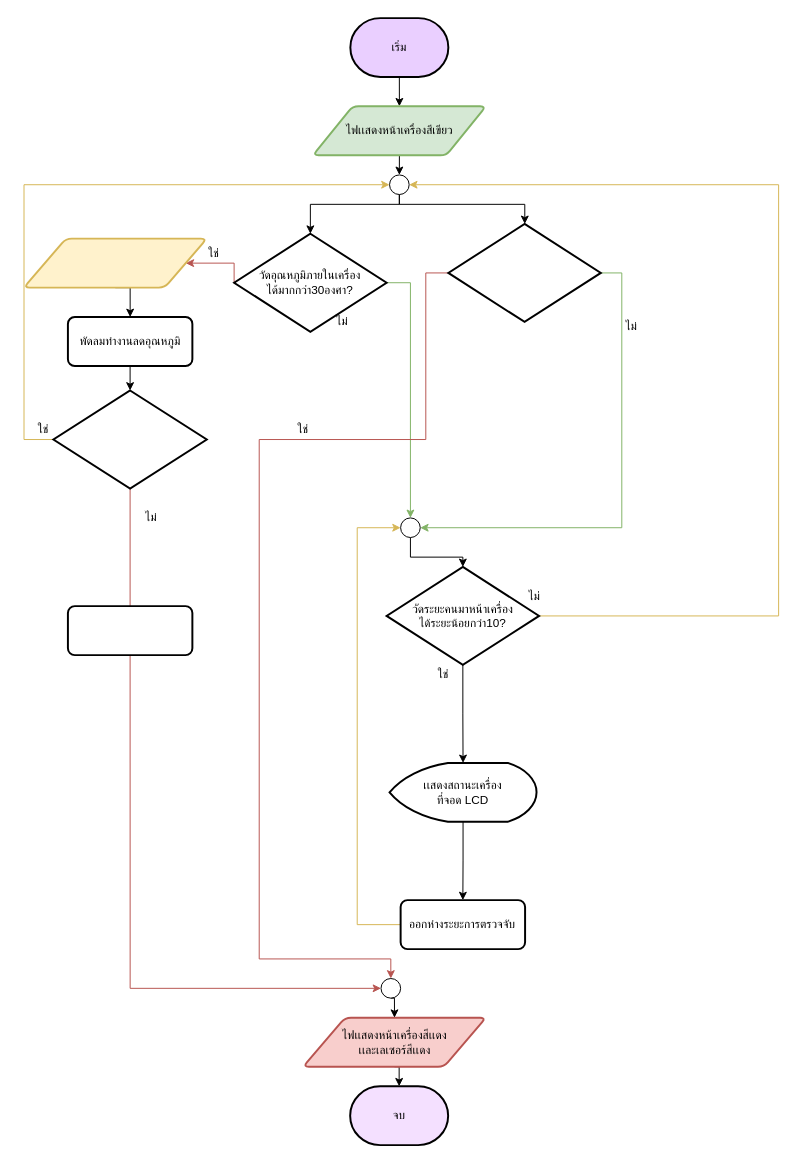
Image size: 804x1162. Some labels were removed from this diagram. Each missing label, with the centre of its shape:
"ตรวจเปลวเพลิงภายนเครื่อง ไม่พบ?" belongs at (x=129, y=439).
"พัดลมหยุดการทำงาน" belongs at (x=129, y=630).
"วัดระดับน้ำภายในเครื่อง ได้มากกว่า10?" belongs at (x=524, y=272).
"ไฟเเสดงหน้าเครื่องสีเหลือง" belongs at (x=114, y=262).
